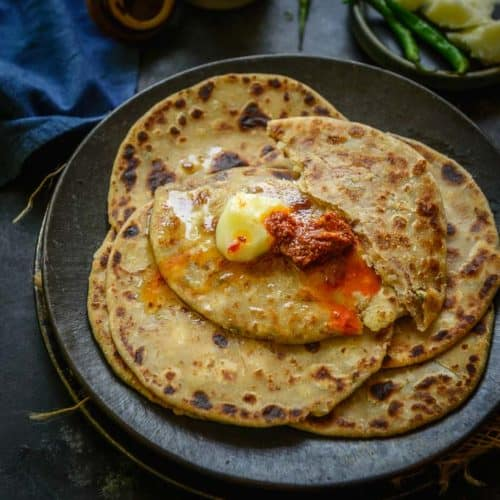aloo_paratha: (86, 72, 500, 442)
